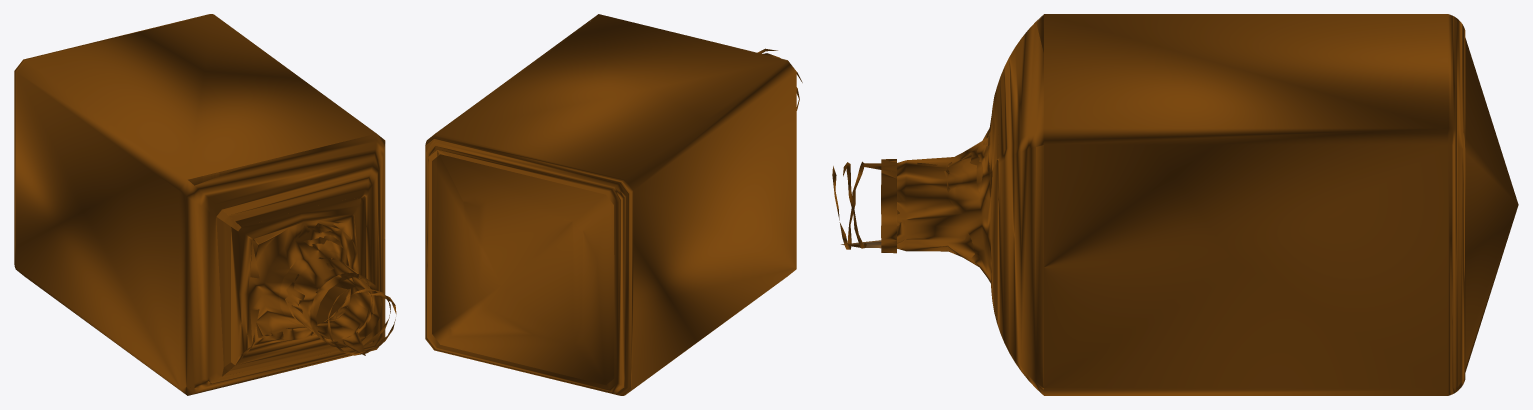
Rendered from model_align.obj.
The picture shows the model from 3 angles, left to right: view 1: azimuth 30°, elevation 25°; view 2: azimuth 150°, elevation 25°; view 3: azimuth 270°, elevation 25°; orthographic projection. The views are drawn at different scales.
Size of the model in its own units: 0.1162 by 0.1162 by 0.2699.
